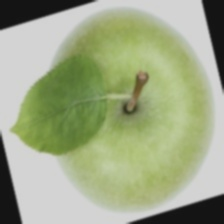apple: (8, 15, 196, 179)
